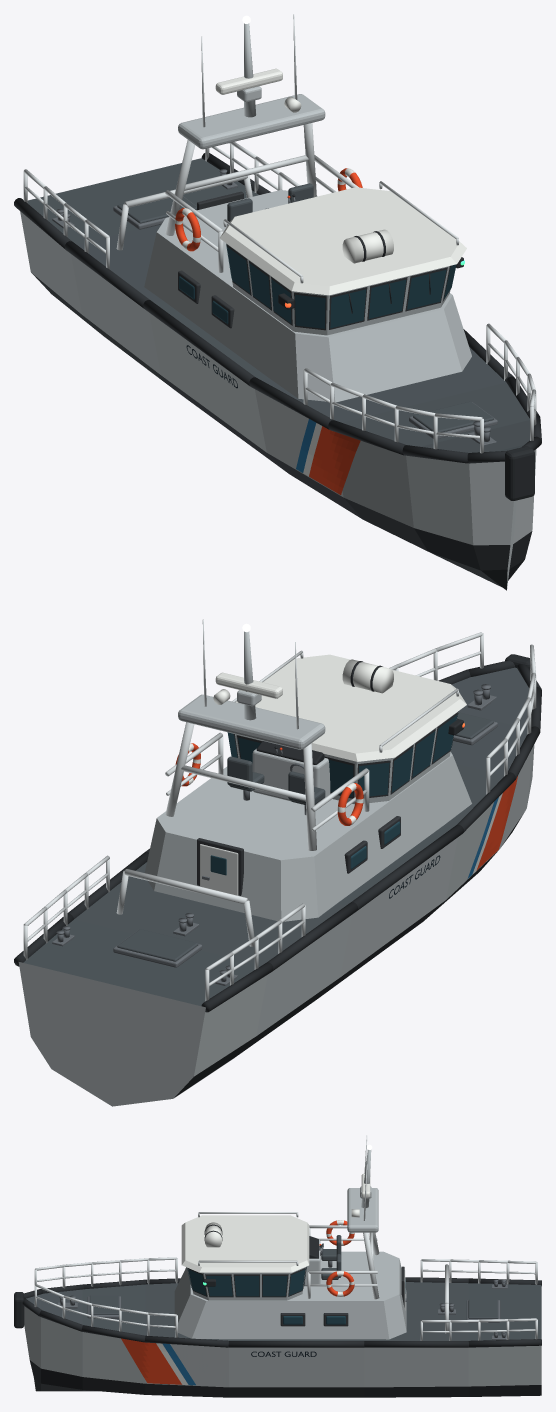
Rendered from motor_lifeboat_47.glb.
The picture shows the model from 3 angles, top to bottom: view 1: azimuth 30°, elevation 25°; view 2: azimuth 150°, elevation 25°; view 3: azimuth 270°, elevation 25°; orthographic projection. The views are drawn at different scales.
Parts seen in each view (by area): view 1: motor_lifeboat_47; view 2: motor_lifeboat_47; view 3: motor_lifeboat_47.
Boxes of the visible parts, x1,y1,x2,y2 form: motor_lifeboat_47: [14, 14, 541, 590]; motor_lifeboat_47: [14, 619, 541, 1106]; motor_lifeboat_47: [14, 1135, 541, 1397].
Bounding box in the file's own units: 4.36 × 7.45 × 14.48.
